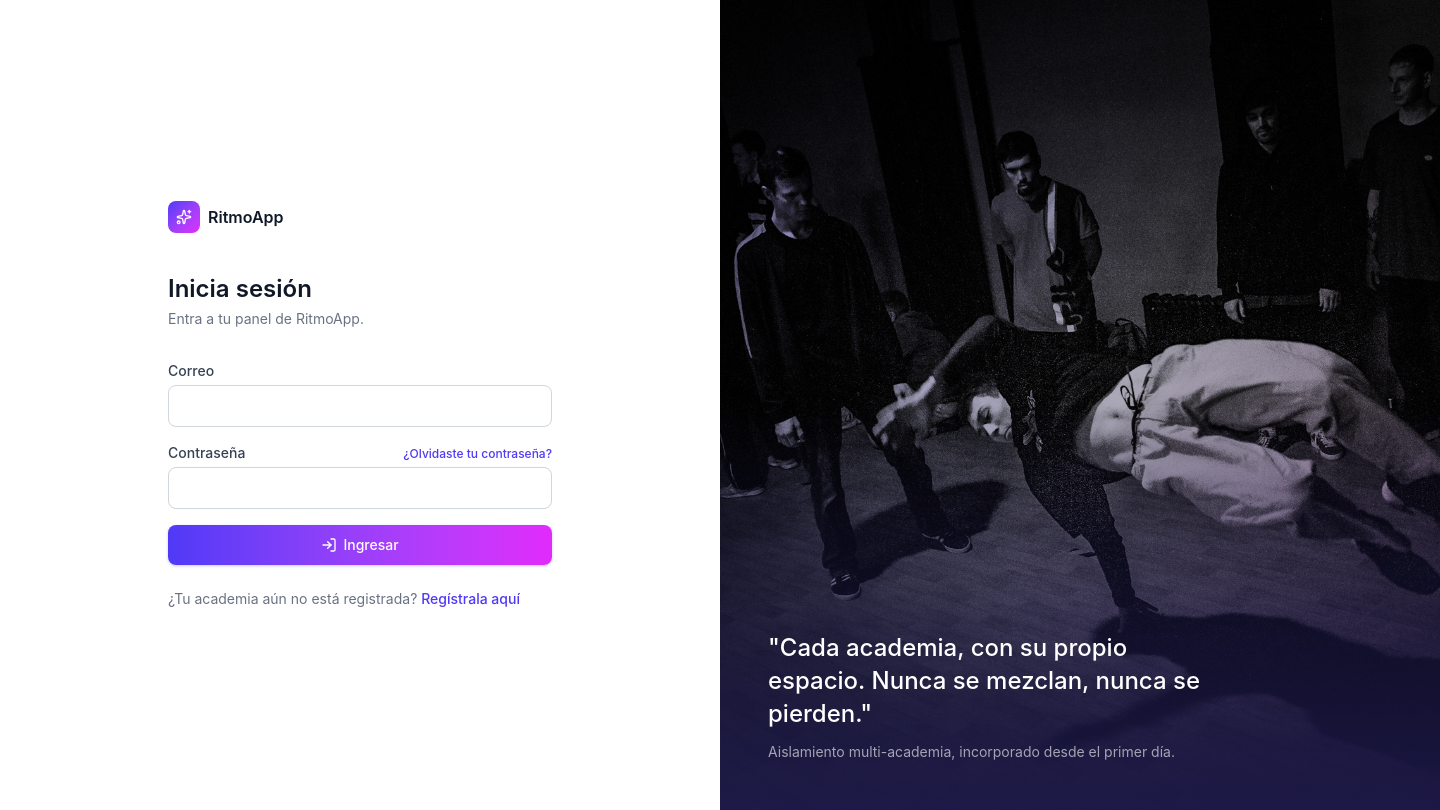
Test case: RF-04 · HU-04: inicio de sesión (pantalla) › CP-126 · con datos incorrectos muestra el mensaje de la API y no entra
Type "ana@ritmo.test" into the field labelled "Correo" at (360, 406), box [168,385,552,427]
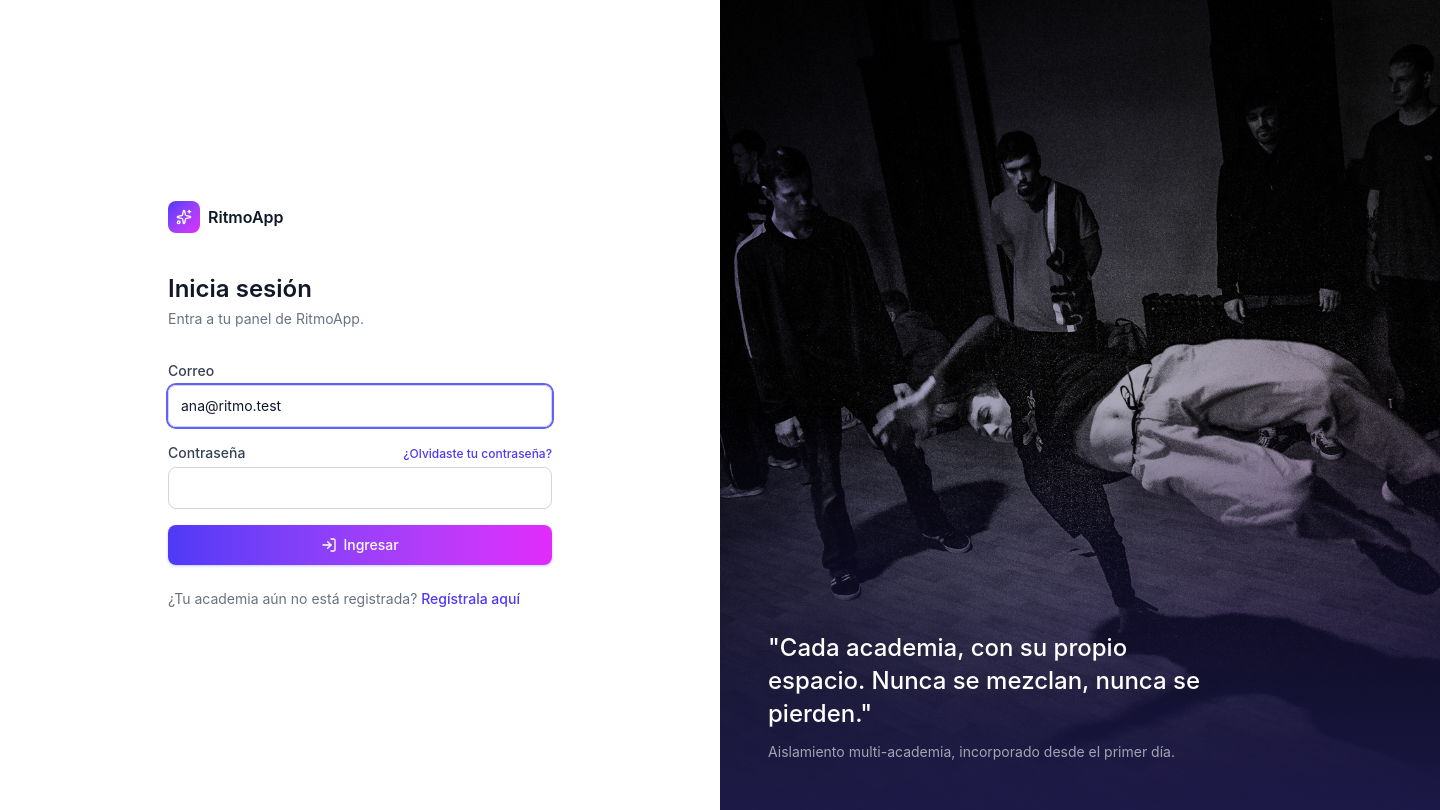
Type "mala" into the password field labelled "Contraseña" at (360, 488), box [168,467,552,509]
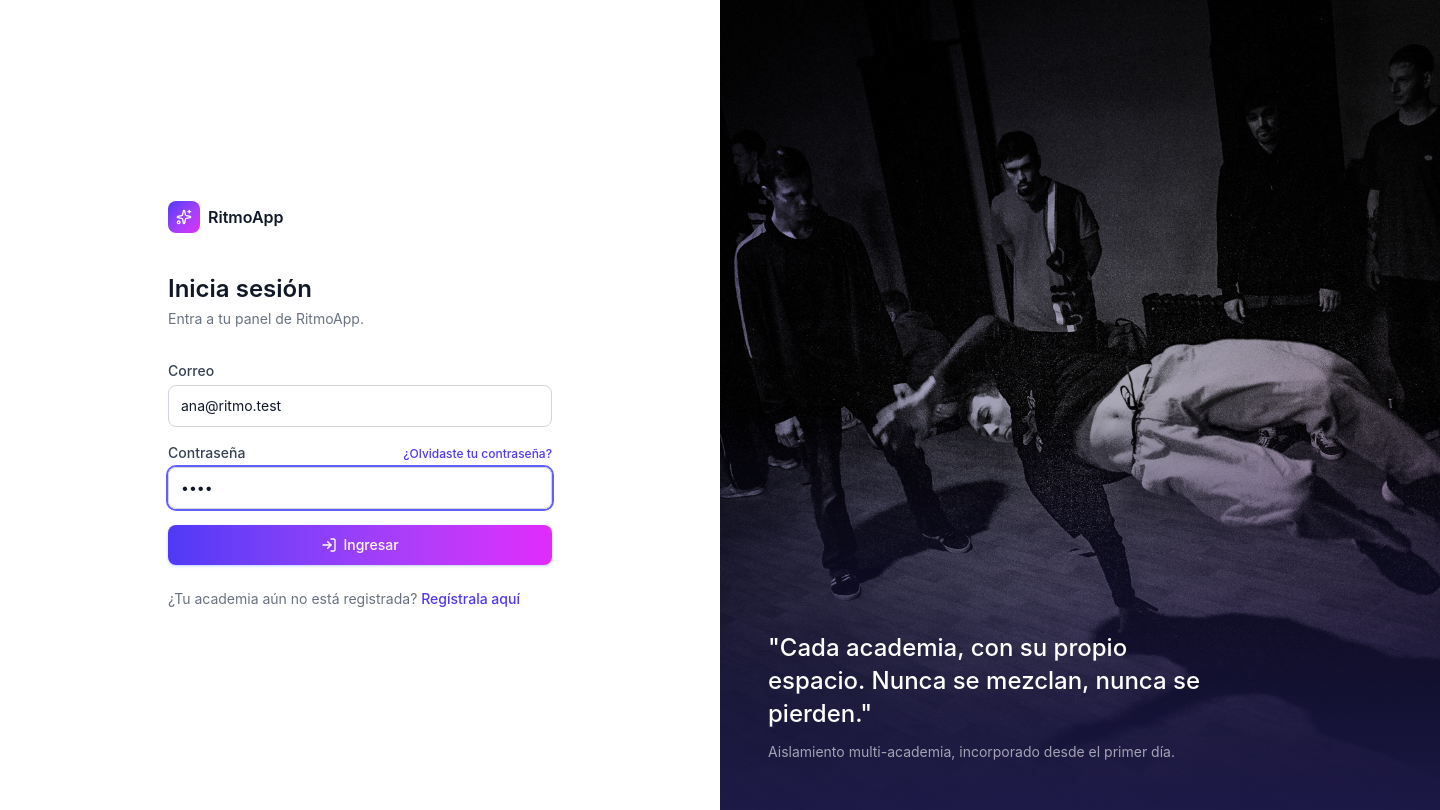
Click the button "Ingresar" at (360, 545), box [168,525,552,565]
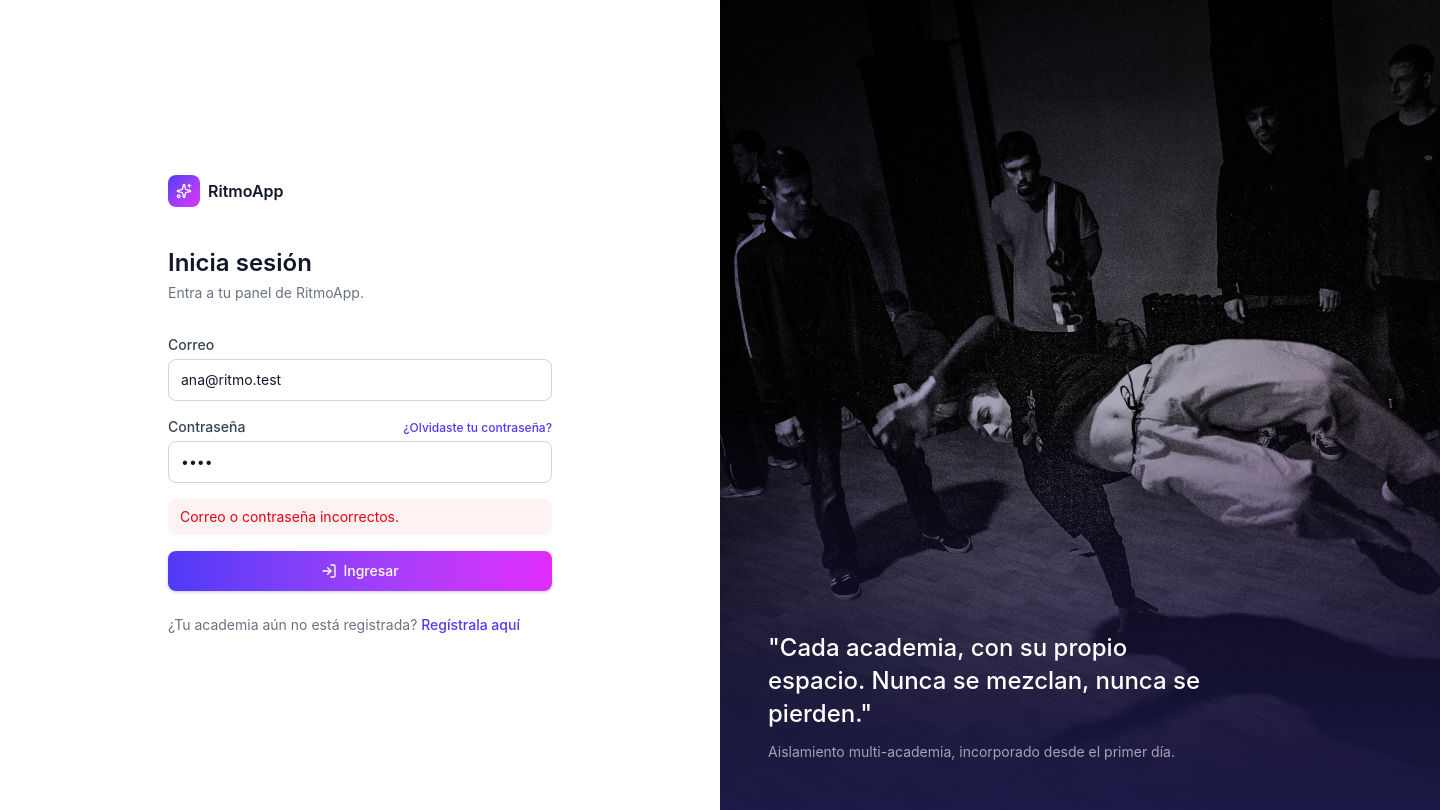
Check: the text "Correo o contraseña incorrectos." is shown, box [168,499,552,535]
